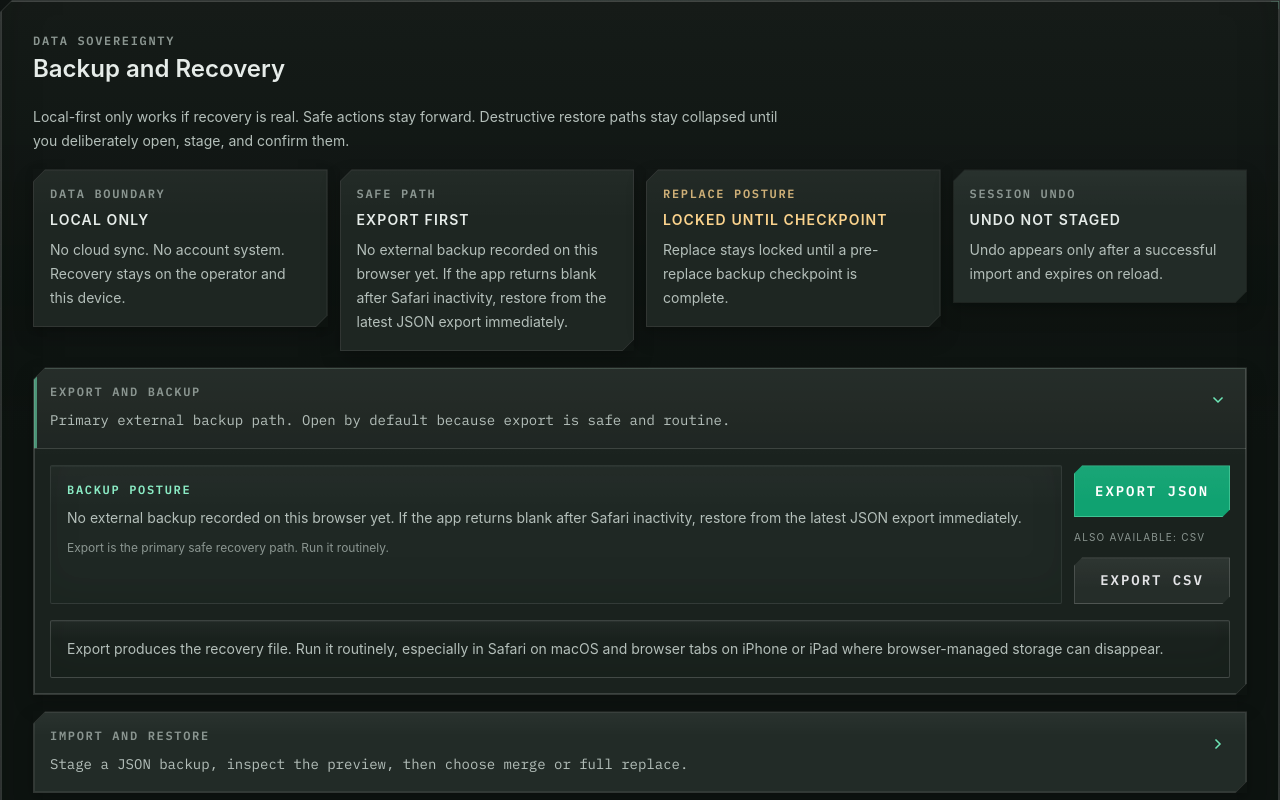
Test: ExportPanel import warnings › preserves accordion button and region bindings for backup sections
The width and height of the screenshot is (1280, 800).
Click the button "Import and Restore" at (640, 752), box [34, 712, 1246, 792]
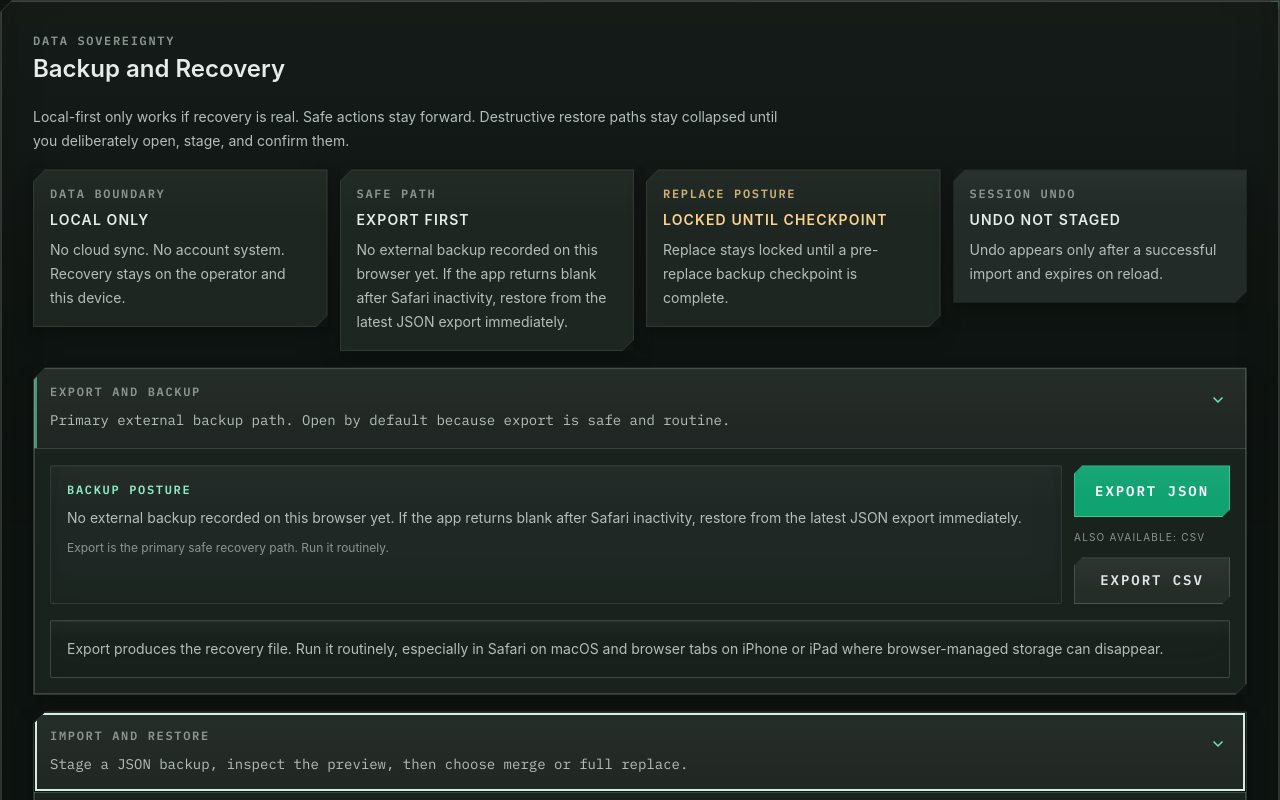
Check: the button "Import and Restore" is expanded, box [34, 712, 1246, 792]
